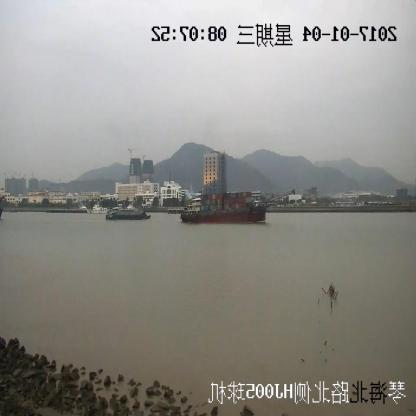Bulk Carrier: (183, 189, 294, 223), (107, 209, 150, 220)
